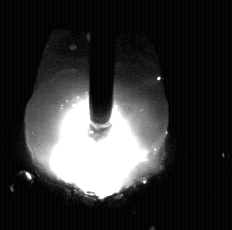arame: (90, 0, 115, 141)
poca: (23, 0, 169, 230)
